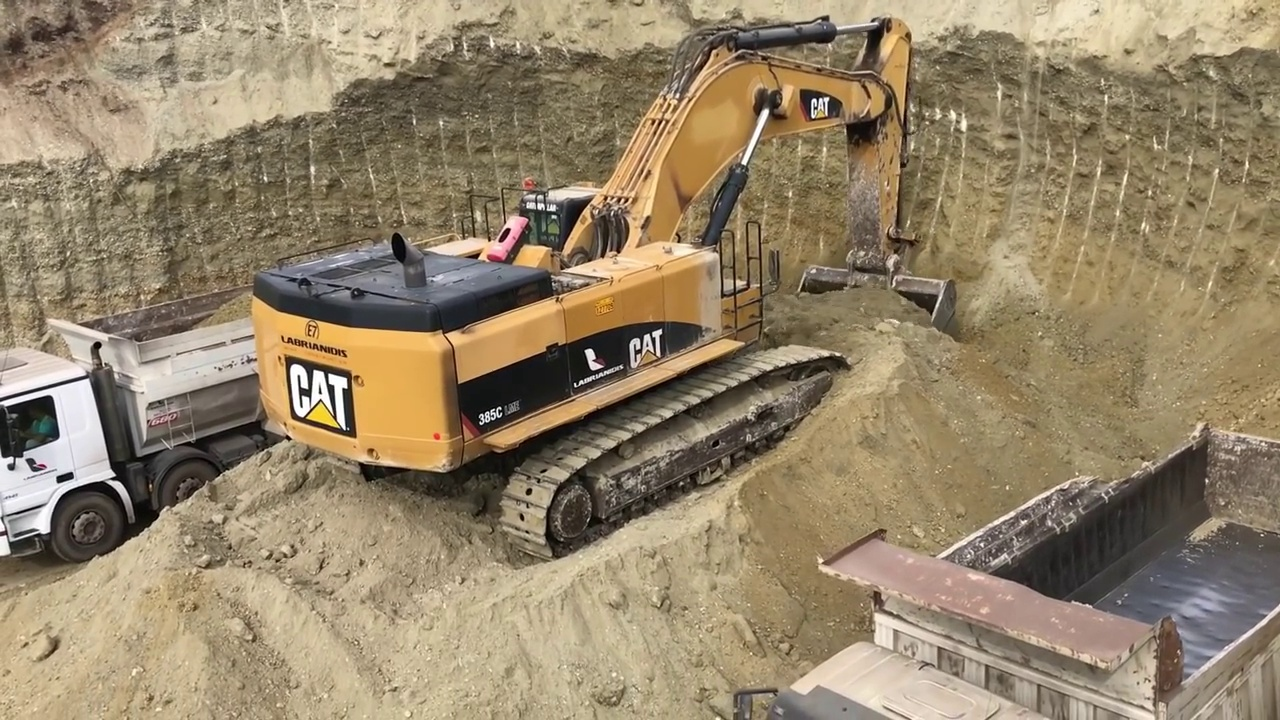excavator: (250, 16, 963, 563)
truck: (730, 423, 1280, 714), (1, 275, 475, 562)
